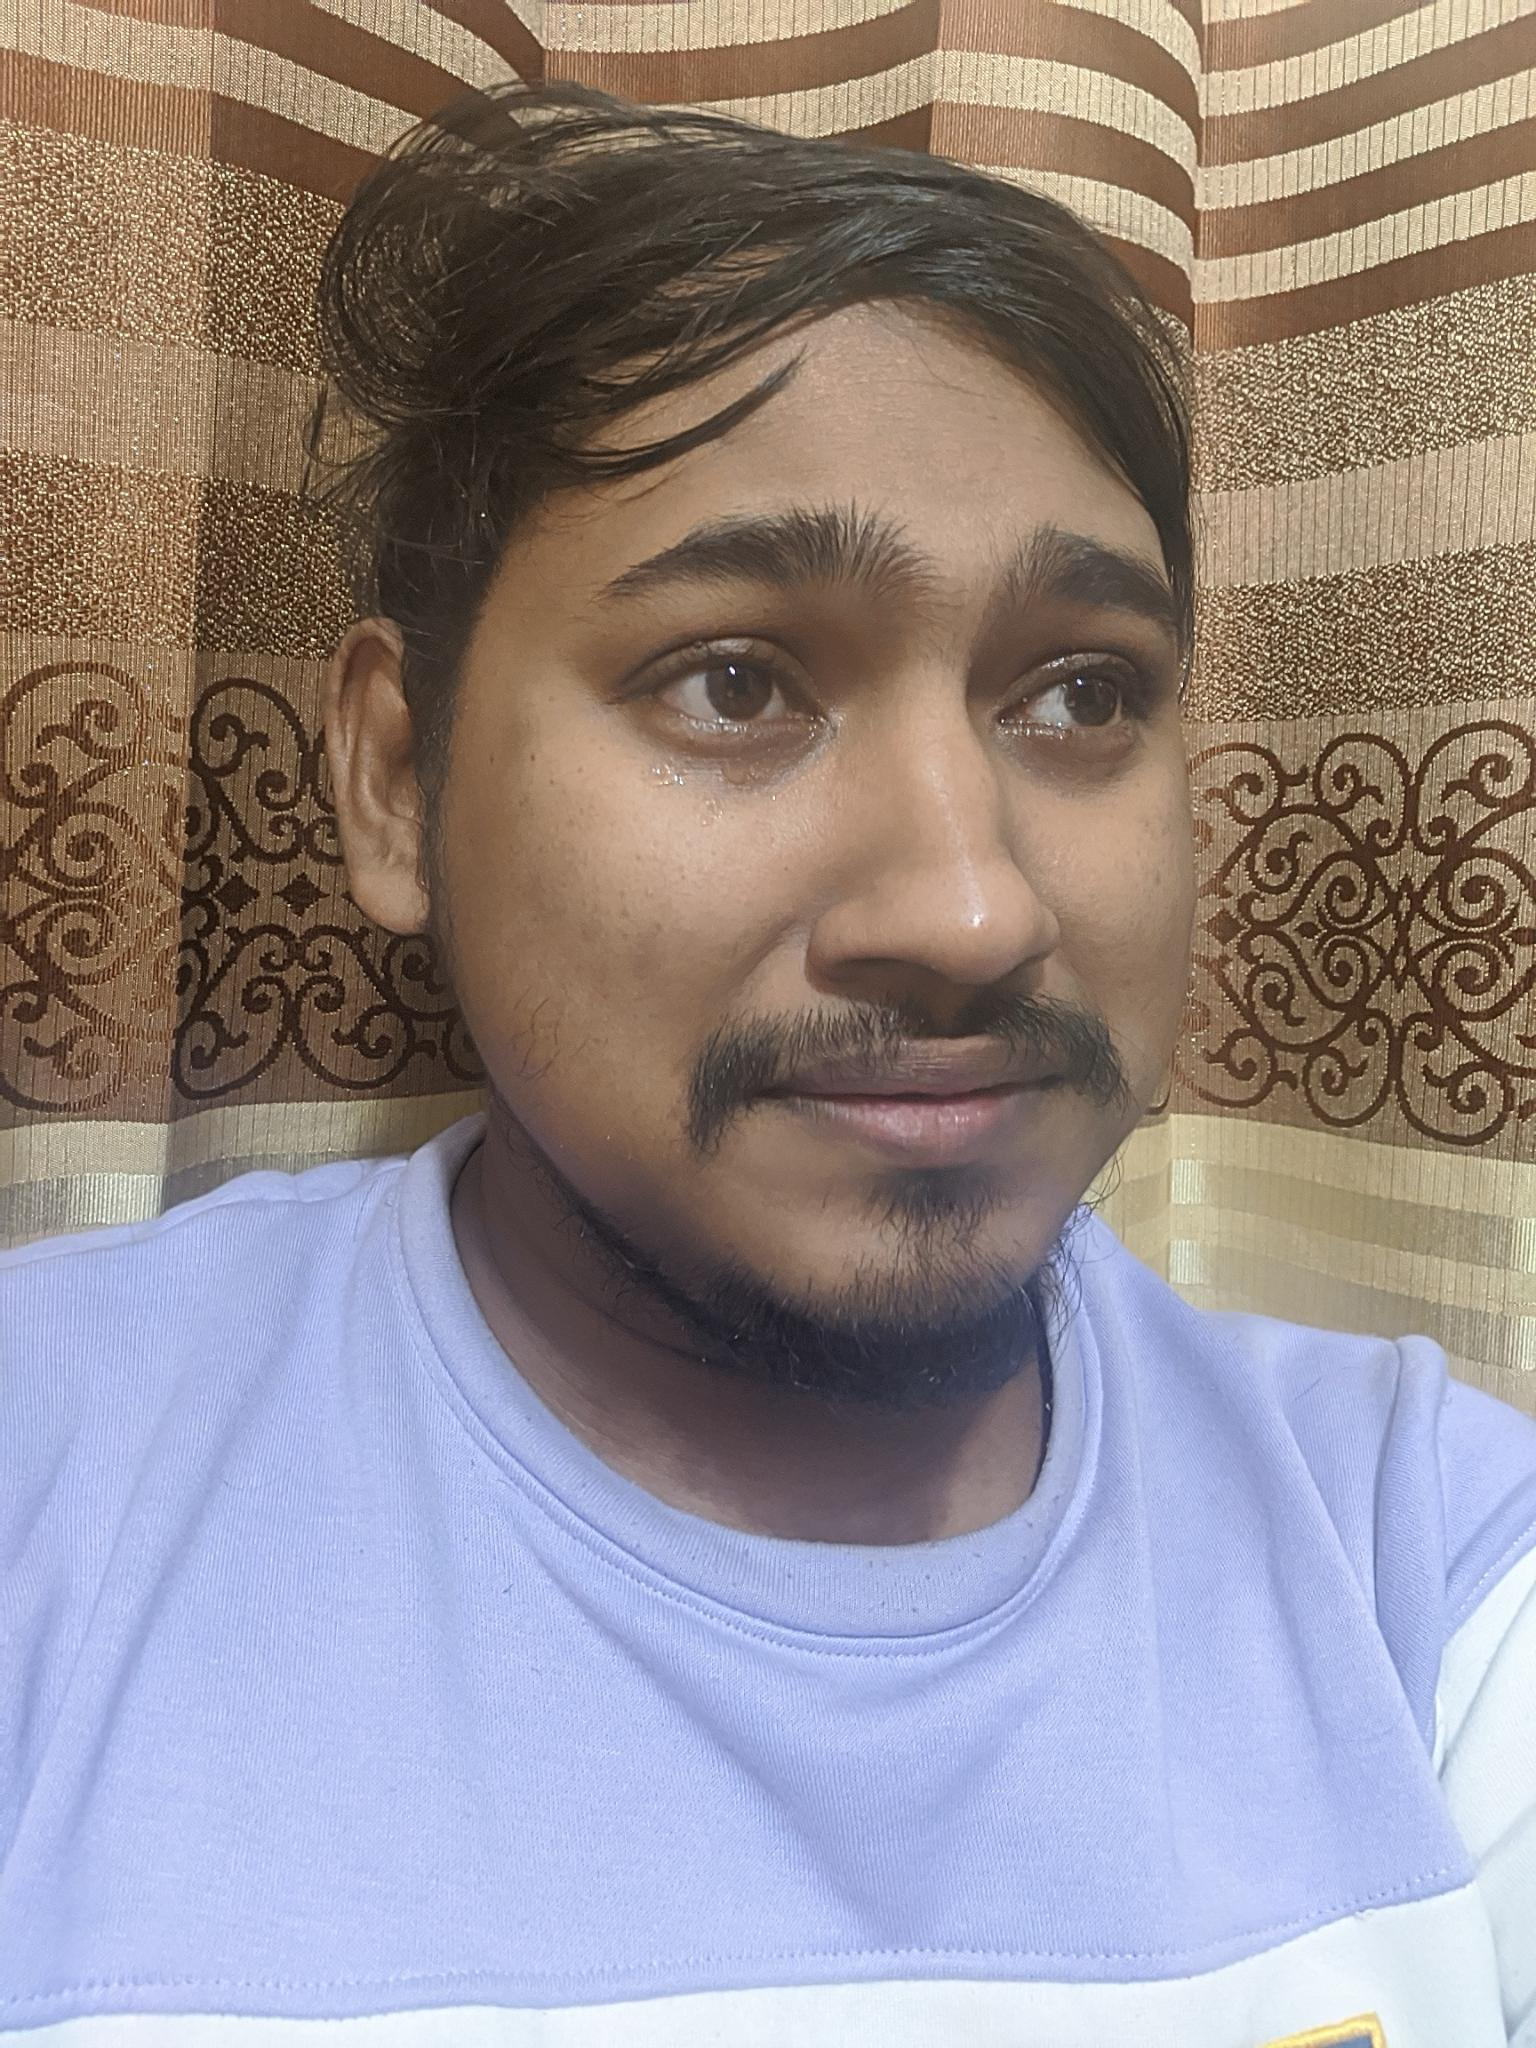Sad: (534, 406, 1254, 1358)
